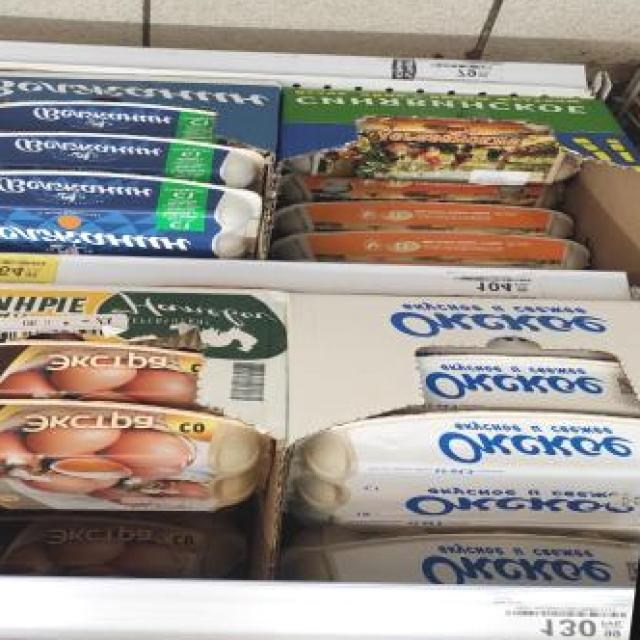egg: (297, 401, 640, 532), (0, 388, 278, 524), (285, 518, 640, 594), (0, 501, 255, 580), (0, 331, 207, 412), (414, 346, 640, 414)
